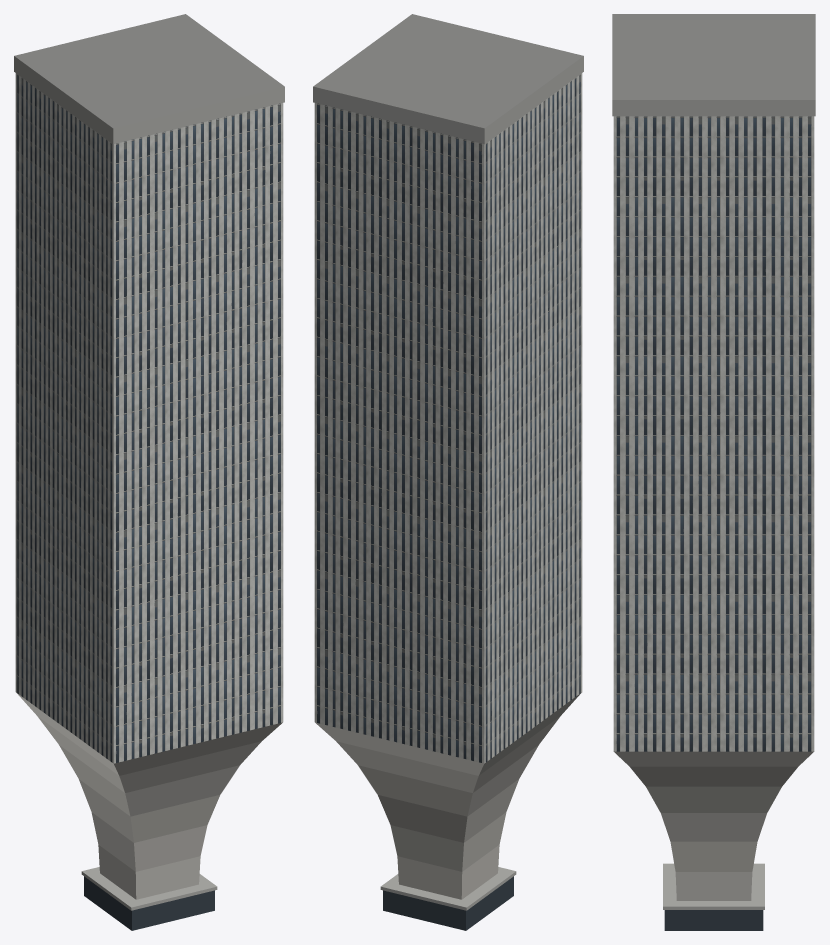
File: rainier_tower.glb
The picture shows the model from 3 angles, left to right: view 1: azimuth 30°, elevation 25°; view 2: azimuth 150°, elevation 25°; view 3: azimuth 270°, elevation 25°; orthographic projection. The views are drawn at different scales.
Parts seen in each view (by area): view 1: rainier_tower; view 2: rainier_tower; view 3: rainier_tower.
Boxes of the visible parts, x1,y1,x2,y2 form: rainier_tower: (14, 14, 284, 930); rainier_tower: (313, 14, 583, 930); rainier_tower: (612, 14, 815, 930).
Bounding box in the file's own units: 33.9 × 157 × 33.9.
Materials: 2 (2 with a texture image).
